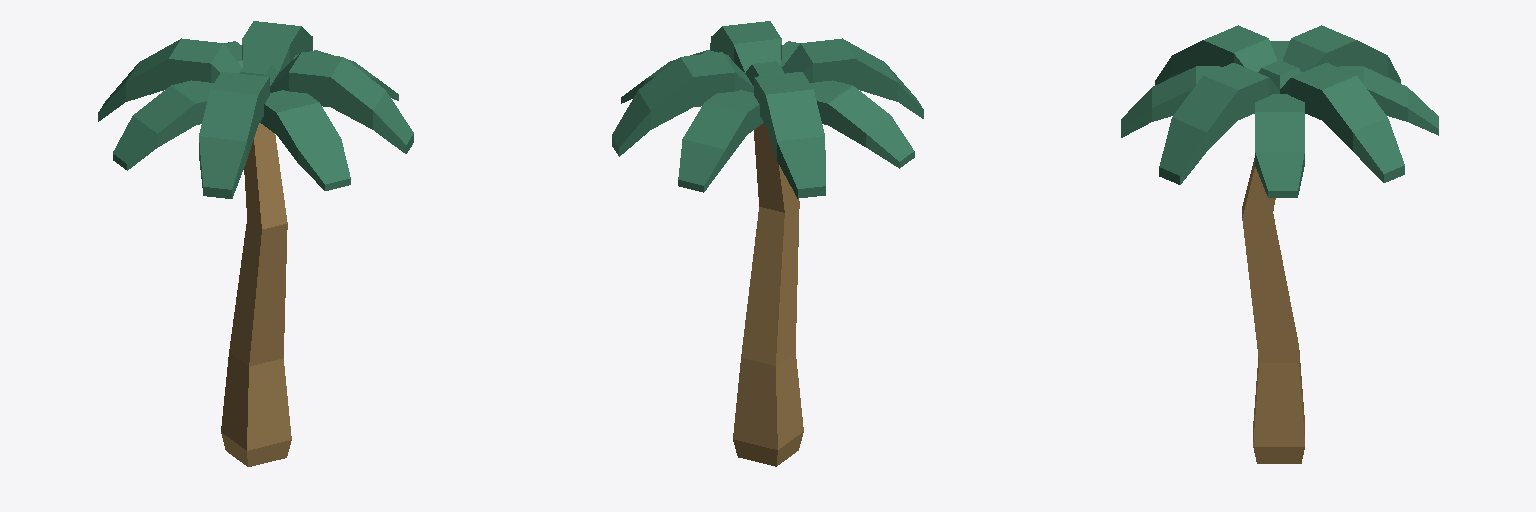
File: palm_3.obj
3 views of the same model, side by side, from view 1: azimuth 30°, elevation 25°; view 2: azimuth 150°, elevation 25°; view 3: azimuth 270°, elevation 25° (orthographic).
Parts seen in each view (by area): view 1: Mesh2_Group3_Group1_Model.003, Mesh1_Group2_Group1_Model.003; view 2: Mesh2_Group3_Group1_Model.003, Mesh1_Group2_Group1_Model.003; view 3: Mesh2_Group3_Group1_Model.003, Mesh1_Group2_Group1_Model.003.
Part boxes in pixels (x1,y1,x2,y2): Mesh2_Group3_Group1_Model.003: (98,21,413,198); Mesh1_Group2_Group1_Model.003: (221,123,291,466); Mesh2_Group3_Group1_Model.003: (612,21,923,198); Mesh1_Group2_Group1_Model.003: (733,123,803,466); Mesh2_Group3_Group1_Model.003: (1121,25,1438,197); Mesh1_Group2_Group1_Model.003: (1242,158,1304,463).
Size of the model in its own units: 3.09 by 4.25 by 3.09.